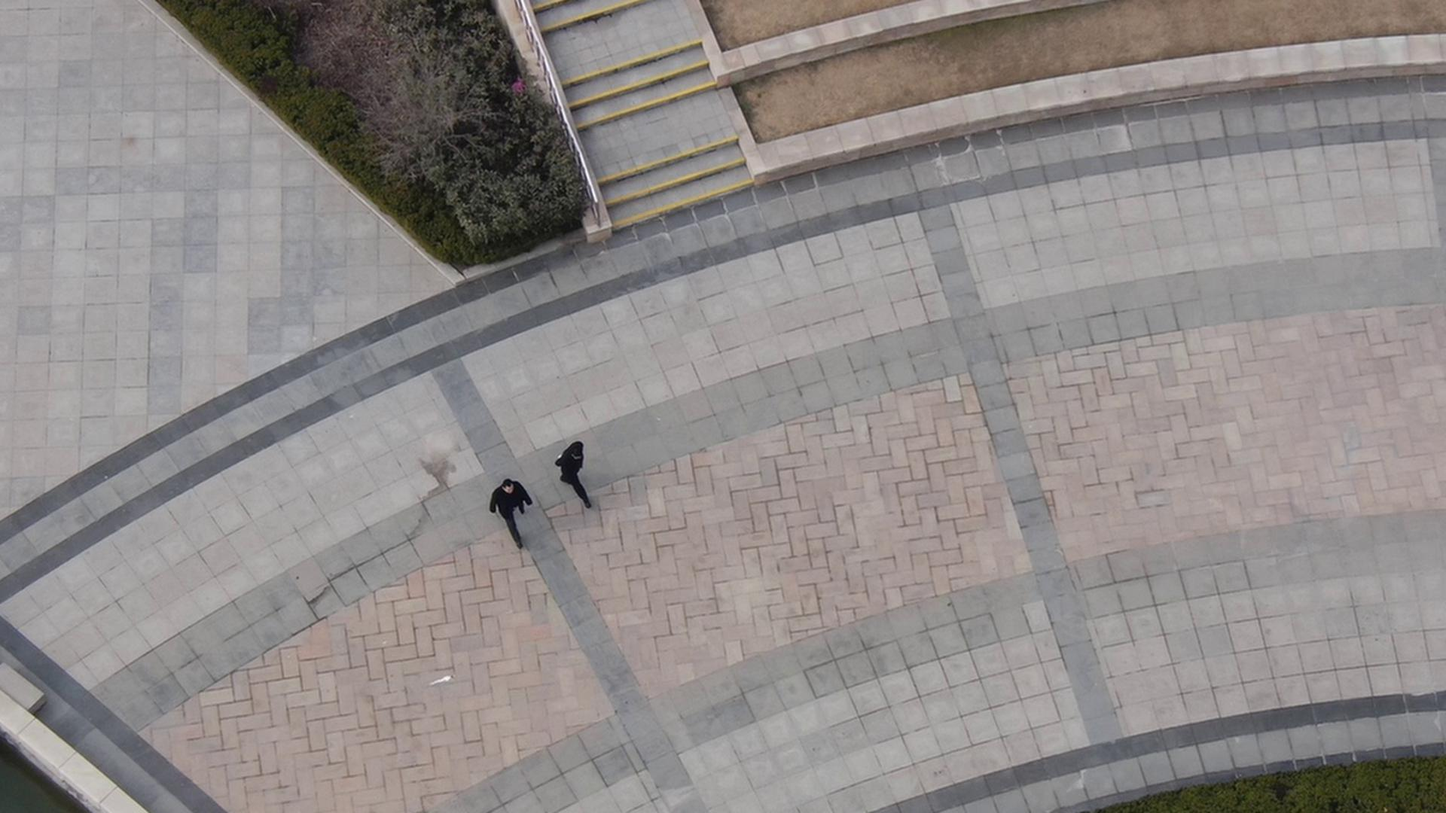human: (490, 468, 537, 548), (552, 425, 593, 507)
